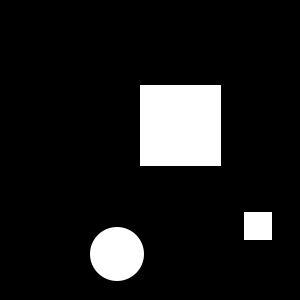circle: (140, 85, 221, 166), (244, 212, 272, 240)
rectangle: (90, 227, 144, 281)
